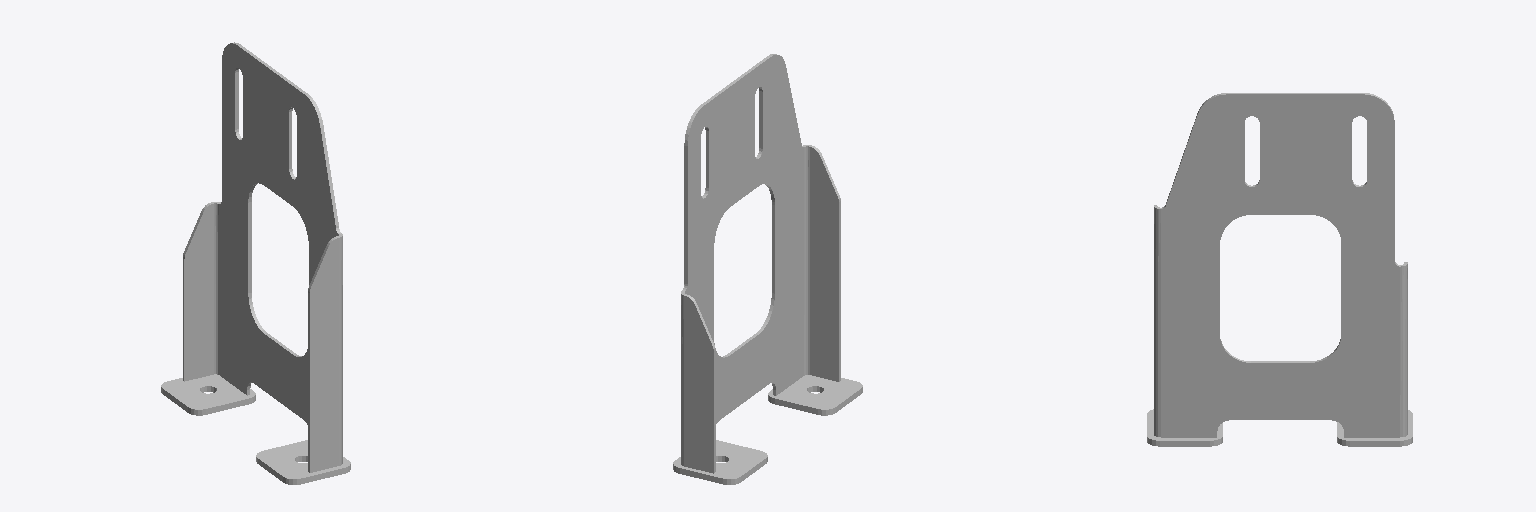
File: wspornik_sredni_prawy.obj
3 views of the same model, side by side, from view 1: azimuth 30°, elevation 25°; view 2: azimuth 150°, elevation 25°; view 3: azimuth 270°, elevation 25° (orthographic).
Visible parts, largest first — view 1: Bryła407; view 2: Bryła407; view 3: Bryła407.
Boxes of the visible parts, box(x1,y1,x2,y2) form: Bryła407: box(161, 42, 350, 484); Bryła407: box(673, 54, 862, 484); Bryła407: box(1147, 93, 1412, 446).
Size of the model in its own units: 60 by 304 by 210.